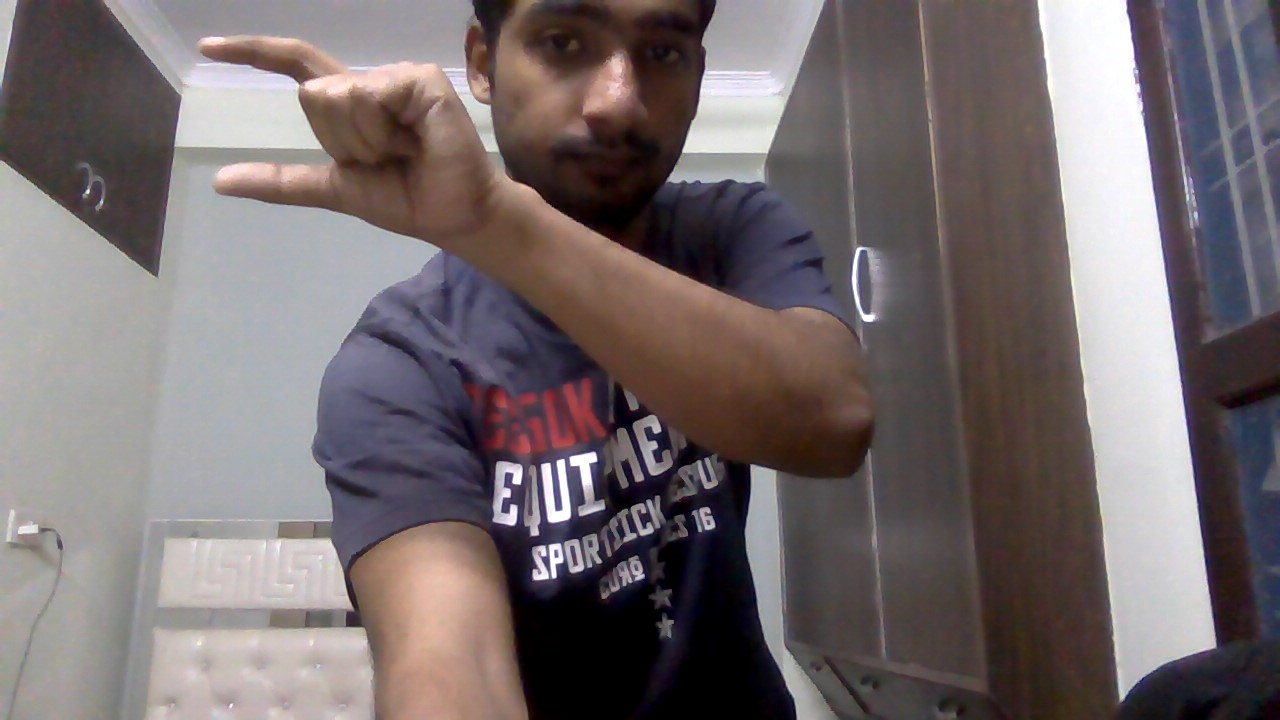Paste: (192, 29, 525, 265)
